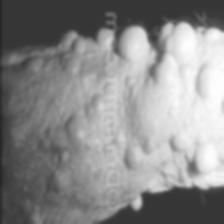Unclassified: (121, 32, 149, 61), (192, 144, 218, 174), (64, 114, 89, 141)
